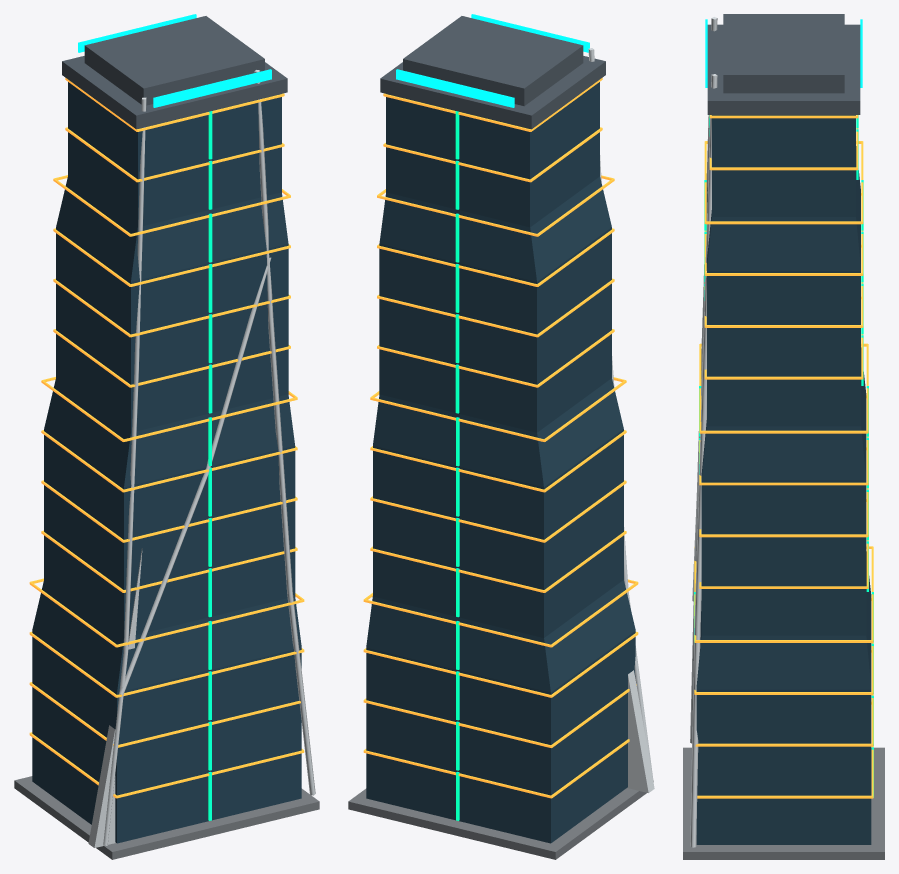
File: stage 8.glb
3 views of the same model, side by side, from view 1: azimuth 30°, elevation 25°; view 2: azimuth 150°, elevation 25°; view 3: azimuth 270°, elevation 25° (orthographic). The views are drawn at different scales.
Visible parts, largest first — view 1: SteppedTowerGlassSail, LanternCrown, MetropolisBands, SteppedWhiteRibs, Foundation.007, MetropolisJadeSpine, SteppedLeftButtress, LanternCrownGlow; view 2: SteppedTowerGlassSail, LanternCrown, MetropolisBands, Foundation.007, MetropolisJadeSpine, SteppedLeftButtress, LanternCrownGlow, SteppedWhiteRibs; view 3: SteppedTowerGlassSail, LanternCrown, MetropolisBands, Foundation.007, SteppedWhiteRibs, MetropolisJadeSpine, LanternCrownGlow.
Boxes of the visible parts, left/top/right/bottom form: SteppedTowerGlassSail: left=32, top=82, right=301, bottom=843; LanternCrown: left=62, top=16, right=287, bottom=129; MetropolisBands: left=29, top=78, right=304, bottom=798; SteppedWhiteRibs: left=103, top=70, right=315, bottom=845; Foundation.007: left=14, top=776, right=319, bottom=859; MetropolisJadeSpine: left=208, top=111, right=212, bottom=820; SteppedLeftButtress: left=88, top=548, right=142, bottom=847; LanternCrownGlow: left=78, top=14, right=271, bottom=107; SteppedTowerGlassSail: left=366, top=82, right=635, bottom=843; LanternCrown: left=380, top=16, right=605, bottom=129; MetropolisBands: left=363, top=78, right=638, bottom=798; Foundation.007: left=348, top=780, right=653, bottom=859; MetropolisJadeSpine: left=455, top=111, right=459, bottom=820; SteppedLeftButtress: left=627, top=670, right=654, bottom=792; LanternCrownGlow: left=396, top=14, right=589, bottom=107; SteppedWhiteRibs: left=588, top=48, right=653, bottom=779; SteppedTowerGlassSail: left=696, top=115, right=871, bottom=844; LanternCrown: left=707, top=14, right=860, bottom=114; MetropolisBands: left=694, top=115, right=873, bottom=798; Foundation.007: left=683, top=747, right=884, bottom=859; SteppedWhiteRibs: left=690, top=17, right=717, bottom=847; MetropolisJadeSpine: left=694, top=115, right=873, bottom=797; LanternCrownGlow: left=705, top=19, right=862, bottom=87.
Size of the model in its own units: 11.54 by 37.75 by 9.
